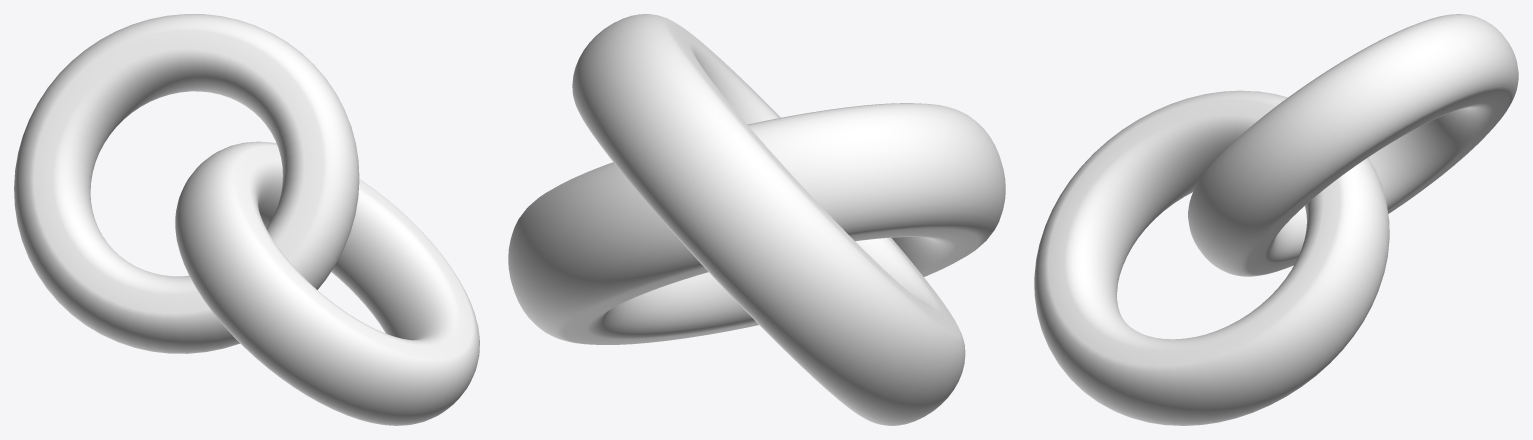
Rendered from rings.glb.
3 views of the same model, side by side, from view 1: azimuth 30°, elevation 25°; view 2: azimuth 150°, elevation 25°; view 3: azimuth 270°, elevation 25° (orthographic). The views are drawn at different scales.
Visible parts, largest first — view 1: Tor_C, Tor_T; view 2: Tor_C, Tor_T; view 3: Tor_T, Tor_C.
Boxes of the visible parts, left/top/right/bottom form: Tor_C: left=14, top=14, right=359, bottom=353; Tor_T: left=175, top=141, right=479, bottom=425; Tor_C: left=572, top=14, right=965, bottom=425; Tor_T: left=508, top=103, right=1005, bottom=344; Tor_T: left=1034, top=90, right=1389, bottom=425; Tor_C: left=1188, top=14, right=1518, bottom=276.
Bounding box in the file's own units: 0.8307 × 0.7161 × 0.9334.
Materials: 2 (2 with a texture image).
